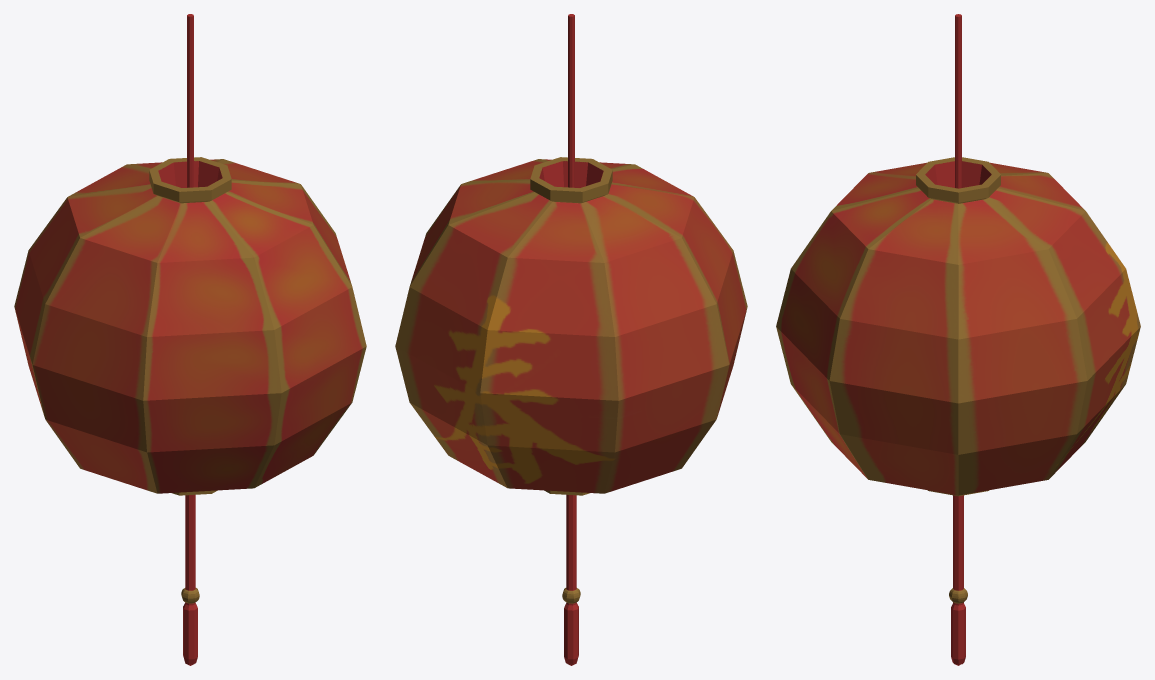
File: lantern.glb
3 views of the same model, side by side, from view 1: azimuth 30°, elevation 25°; view 2: azimuth 150°, elevation 25°; view 3: azimuth 270°, elevation 25° (orthographic).
Visible parts, largest first — view 1: Cylinder; view 2: Cylinder; view 3: Cylinder.
Boxes of the visible parts, box(x1,y1,x2,y2) form: Cylinder: box(14, 14, 366, 665); Cylinder: box(395, 14, 747, 665); Cylinder: box(776, 14, 1140, 665).
Bounding box in the file's own units: 2.9 × 5.7 × 2.9.
1 material, 1 textured.
